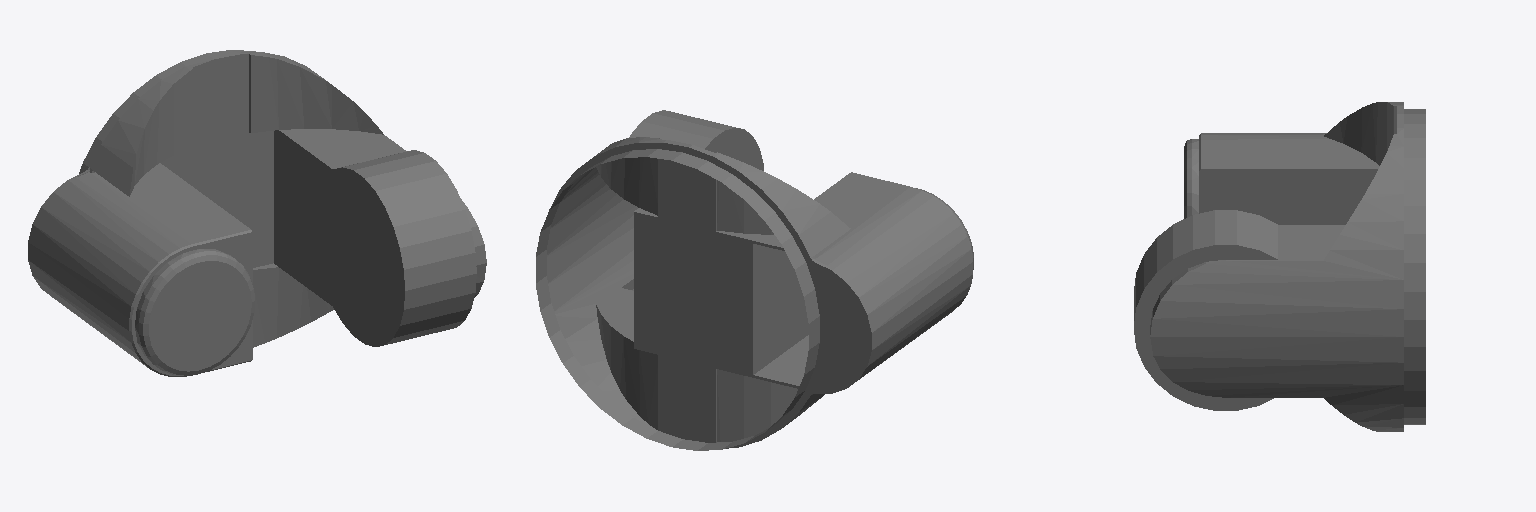
The model's file is wamUpperWristPitchLink6.obj.
3 views of the same model, side by side, from view 1: azimuth 30°, elevation 25°; view 2: azimuth 150°, elevation 25°; view 3: azimuth 270°, elevation 25° (orthographic).
Visible parts, largest first — view 1: wamUpperWristPitchLink6_wamUpperWristPitchLink6.001; view 2: wamUpperWristPitchLink6_wamUpperWristPitchLink6.001; view 3: wamUpperWristPitchLink6_wamUpperWristPitchLink6.001.
Boxes of the visible parts, box(x1,y1,x2,y2) form: wamUpperWristPitchLink6_wamUpperWristPitchLink6.001: box(28, 50, 486, 376); wamUpperWristPitchLink6_wamUpperWristPitchLink6.001: box(536, 110, 973, 450); wamUpperWristPitchLink6_wamUpperWristPitchLink6.001: box(1134, 102, 1425, 431).
Bounding box in the file's own units: 0.1031 × 0.0888 × 0.0787.